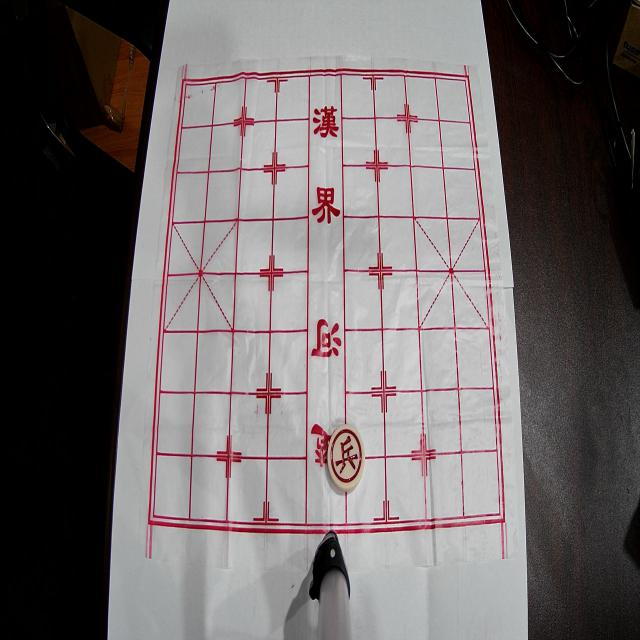red-soldier: (327, 424, 365, 490)
